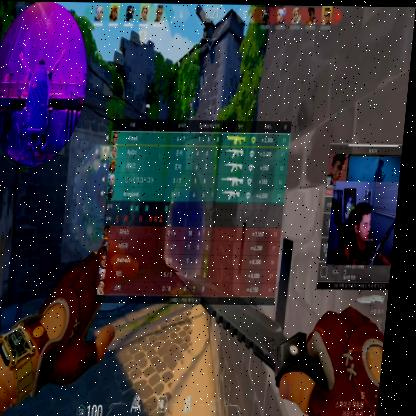streamer: (343, 199, 401, 263)
